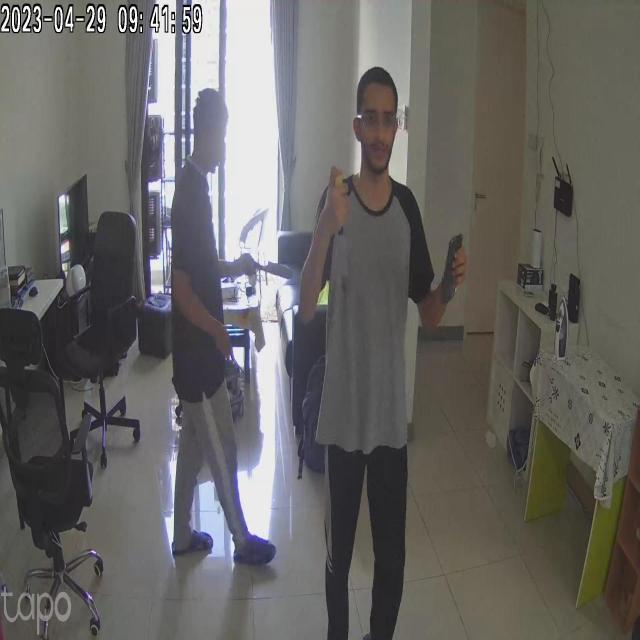Knife: (322, 155, 362, 297), (250, 254, 296, 290)
